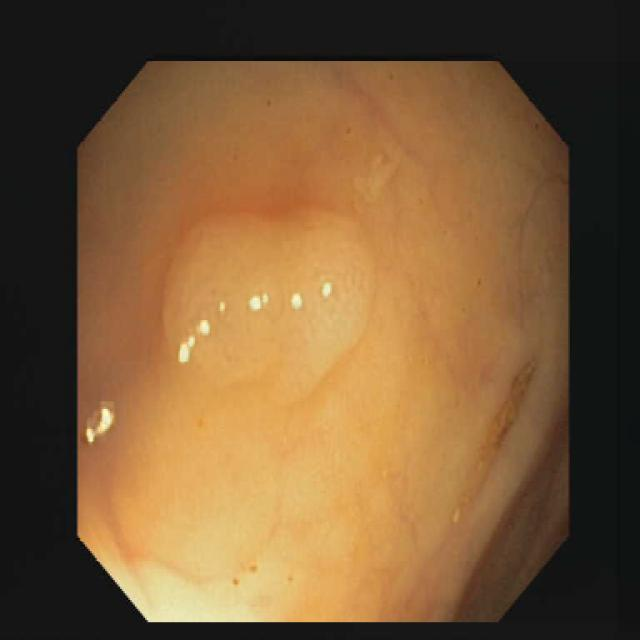tumor: (163, 211, 395, 389)
